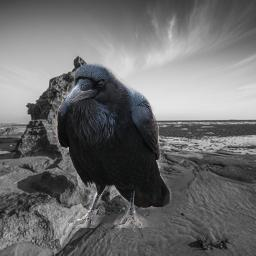Crow: (55, 62, 172, 228)
